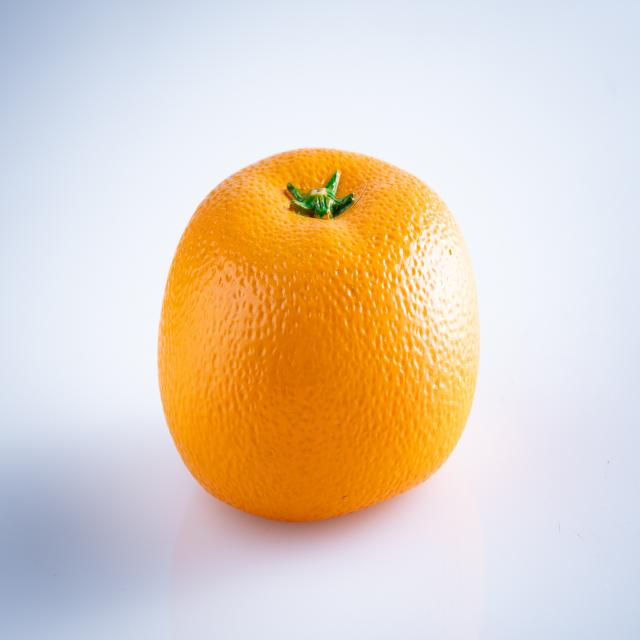Orange: (157, 141, 481, 523)
